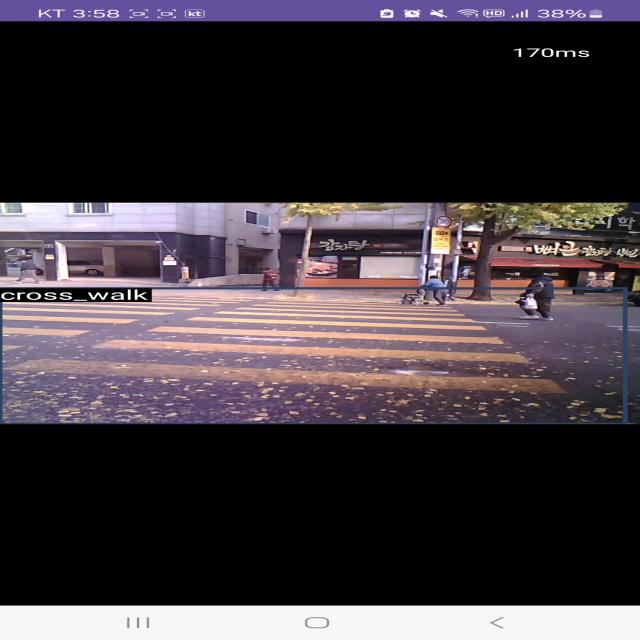crosswalk: (4, 297, 579, 402)
redlight: (457, 240, 476, 256)
